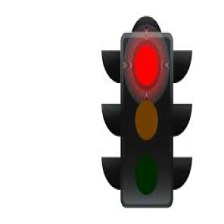semaforo: (120, 32, 173, 208)
